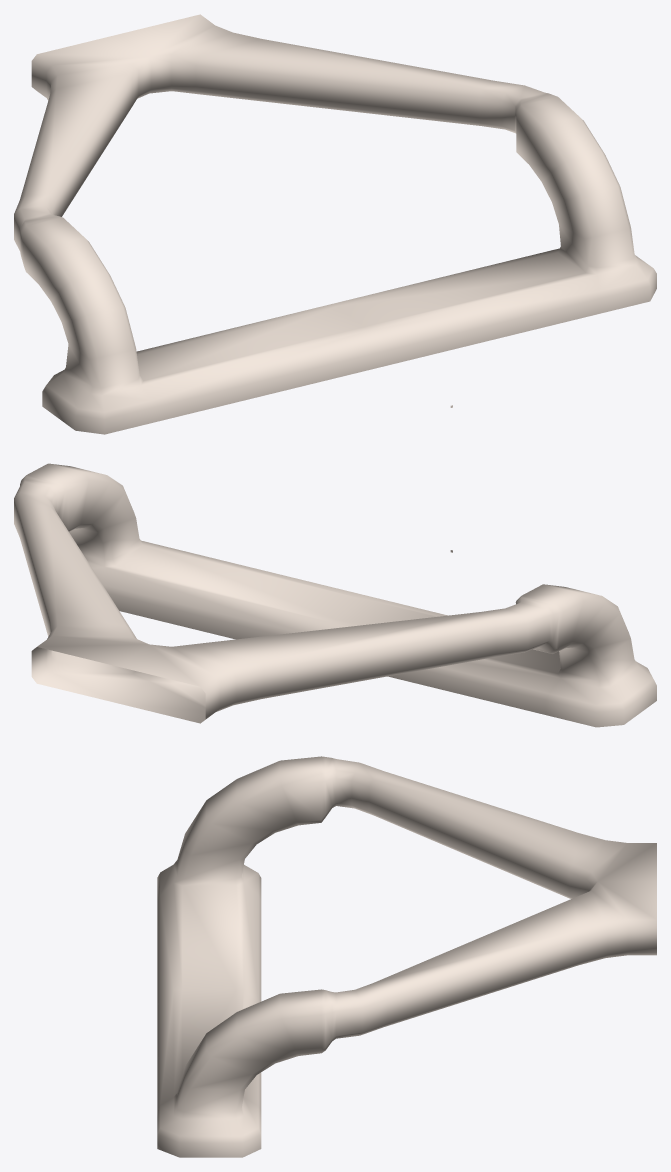
File: MeshTelevisionStand_4_1_GeomSubset_1.obj
The picture shows the model from 3 angles, top to bottom: view 1: azimuth 30°, elevation 25°; view 2: azimuth 150°, elevation 25°; view 3: azimuth 270°, elevation 25°; orthographic projection. The views are drawn at different scales.
Visible parts, largest first — view 1: MeshTelevisionStand_4_1_GeomSubset_1; view 2: MeshTelevisionStand_4_1_GeomSubset_1; view 3: MeshTelevisionStand_4_1_GeomSubset_1.
Boxes of the visible parts, x1=… form: MeshTelevisionStand_4_1_GeomSubset_1: x1=14, y1=14, x2=656, y2=434; MeshTelevisionStand_4_1_GeomSubset_1: x1=14, y1=463, x2=656, y2=727; MeshTelevisionStand_4_1_GeomSubset_1: x1=157, y1=756, x2=656, y2=1157.
Size of the model in its own units: 0.3783 by 0.0897 by 0.3753.
